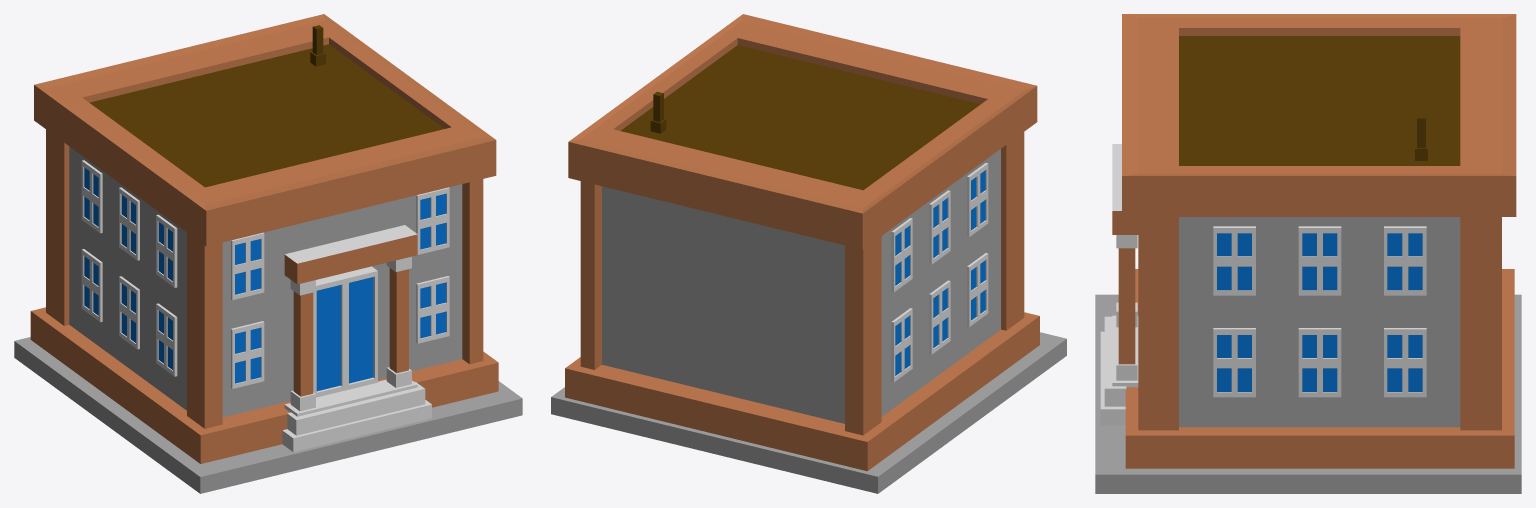
Rendered from Bank.fbx.
The picture shows the model from 3 angles, left to right: view 1: azimuth 30°, elevation 25°; view 2: azimuth 150°, elevation 25°; view 3: azimuth 270°, elevation 25°; orthographic projection. The views are drawn at different scales.
Parts seen in each view (by area): view 1: Bank; view 2: Bank; view 3: Bank.
Part boxes in pixels (bbox=[...]): Bank: bbox=[14, 14, 522, 493]; Bank: bbox=[551, 14, 1066, 493]; Bank: bbox=[1095, 14, 1521, 493].
Size of the model in its own units: 400 by 354 by 400.
